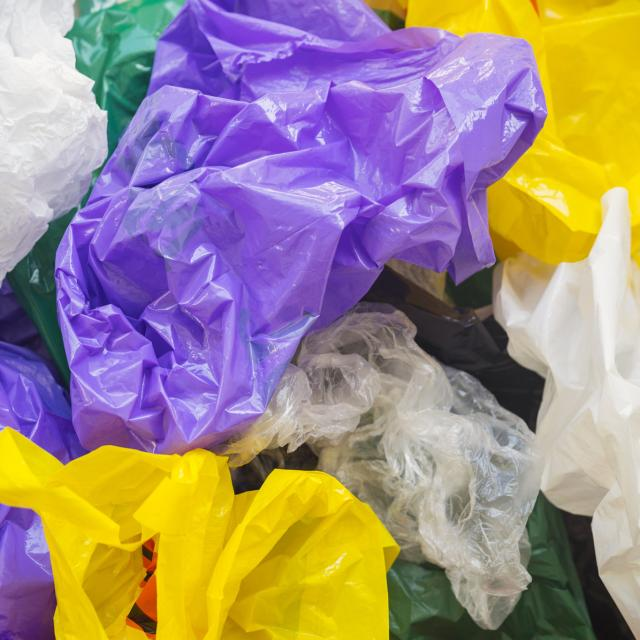Single-layer Plastic: (56, 0, 545, 454), (219, 302, 543, 628), (0, 428, 399, 640), (494, 188, 640, 638), (405, 0, 639, 264), (387, 494, 597, 640), (0, 0, 108, 279), (68, 0, 184, 156), (0, 281, 86, 462), (6, 209, 75, 384), (0, 505, 55, 639)
